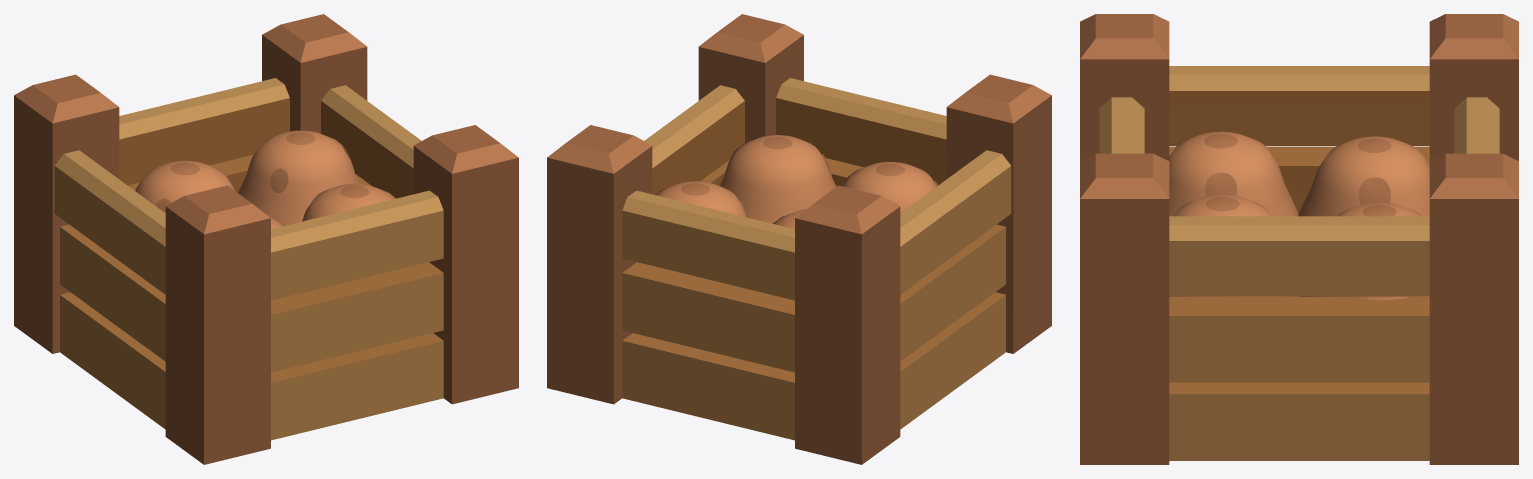
Rendered from BoxPotato2.fbx.
The picture shows the model from 3 angles, left to right: view 1: azimuth 30°, elevation 25°; view 2: azimuth 150°, elevation 25°; view 3: azimuth 270°, elevation 25°; orthographic projection. The views are drawn at different scales.
Parts seen in each view (by area): view 1: Sphere.011; view 2: Sphere.011; view 3: Sphere.011.
Part boxes in pixels (left/top/right/bottom): Sphere.011: left=14, top=14, right=518, bottom=464; Sphere.011: left=547, top=14, right=1051, bottom=464; Sphere.011: left=1080, top=14, right=1518, bottom=464.
Size of the model in its own units: 1.41 by 1.04 by 1.48.
